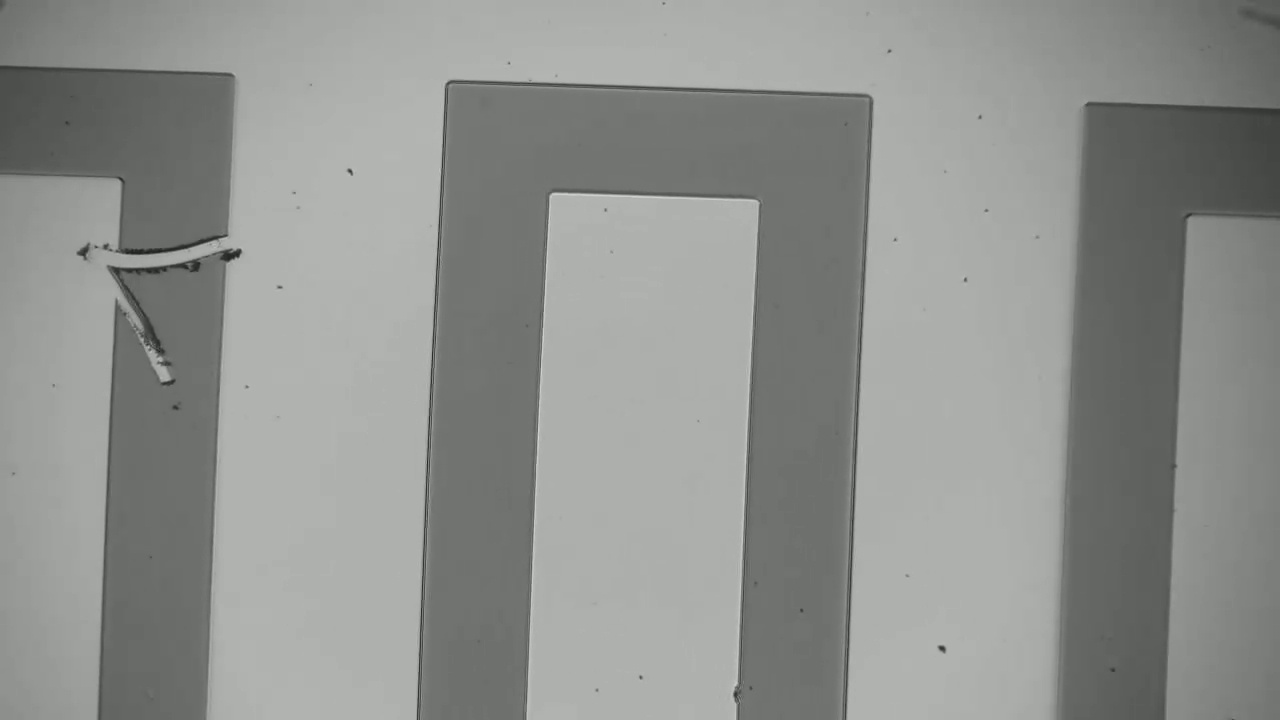Short_circuit: (74, 208, 253, 298)
